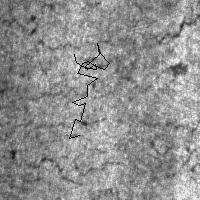crazing: (1, 13, 198, 110), (4, 119, 133, 186), (69, 43, 109, 138)
